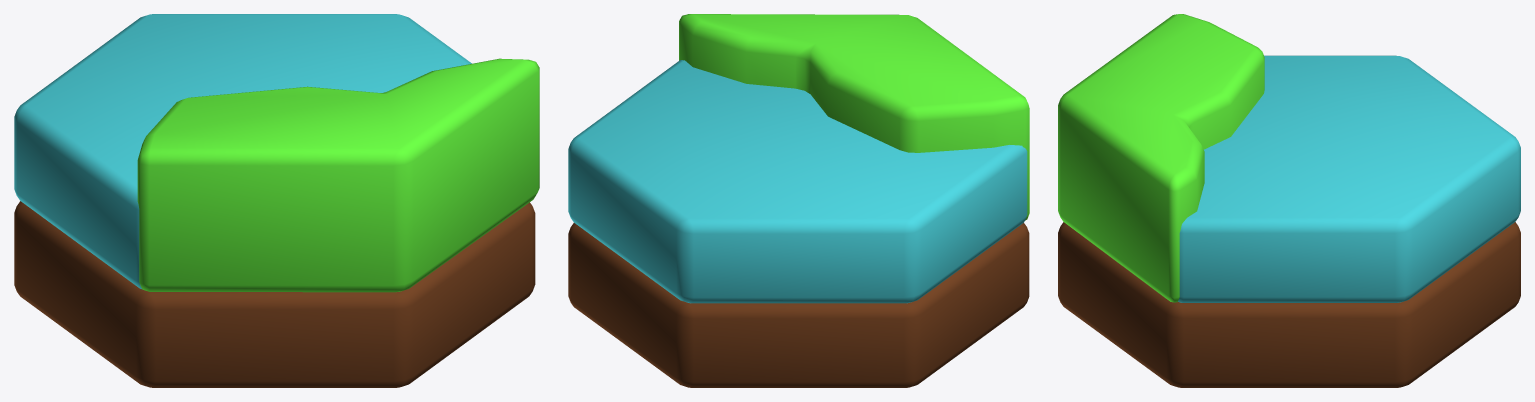
Rendered from ground_water_grass3.glb.
3 renders of one model, left to right at view 1: azimuth 30°, elevation 25°; view 2: azimuth 150°, elevation 25°; view 3: azimuth 270°, elevation 25°, orthographic. The views are drawn at different scales.
Visible parts, largest first — view 1: ground_water_grass3; view 2: ground_water_grass3; view 3: ground_water_grass3.
Boxes of the visible parts, x1,y1,x2,y2 form: ground_water_grass3: [14, 14, 539, 387]; ground_water_grass3: [568, 14, 1029, 387]; ground_water_grass3: [1058, 14, 1520, 387].
Bounding box in the file's own units: 6.97 × 4 × 7.9.
